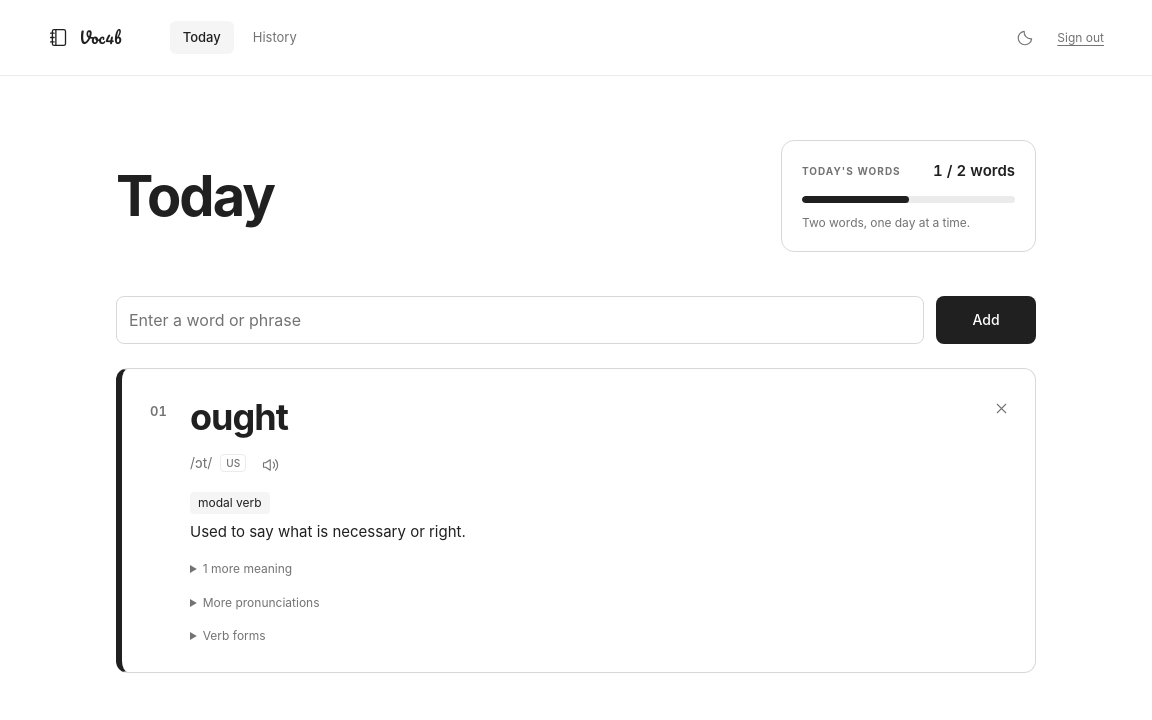
it: does not clear the session cookie when database revocation fails
This screenshot has width=1152, height=720.
Click the button "Sign out".
click(1081, 38)  # box [1057,28,1104,47]
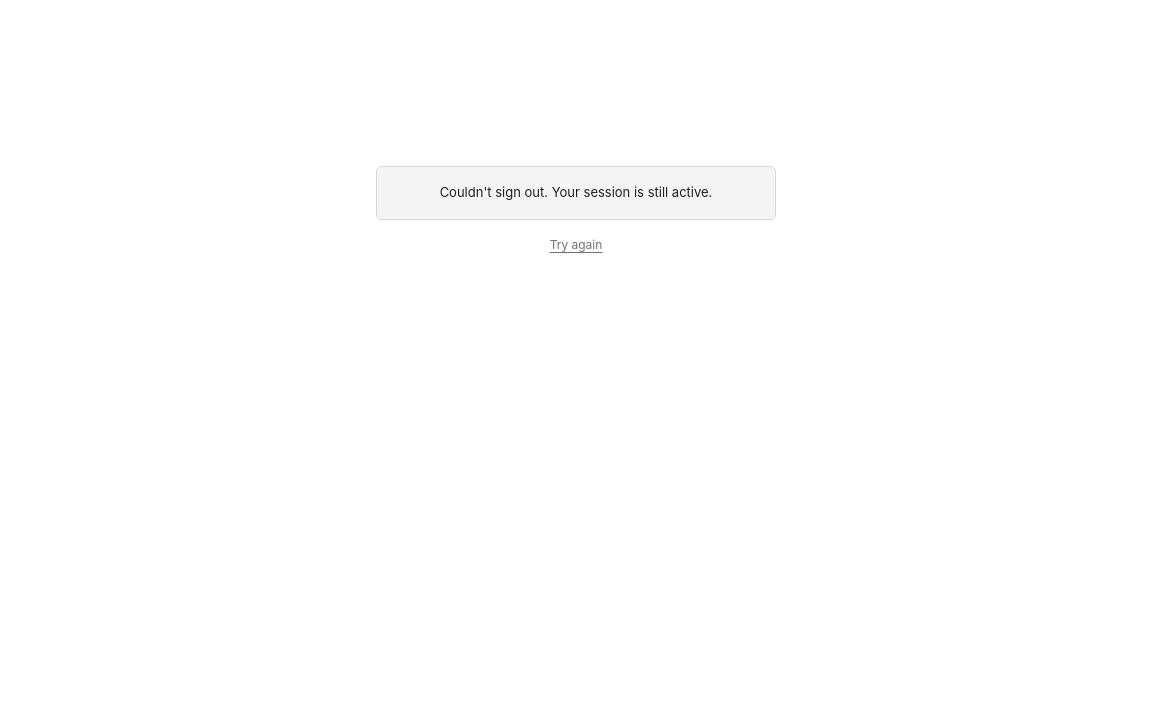
Expected: the message shows "session is still active", [440,184,712,200]
